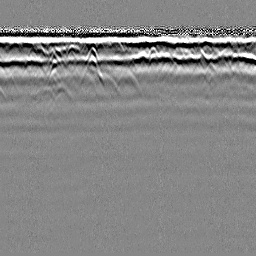cavity: (110, 68, 145, 99)
